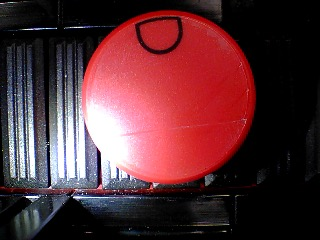MIPO1: (80, 8, 257, 184)
